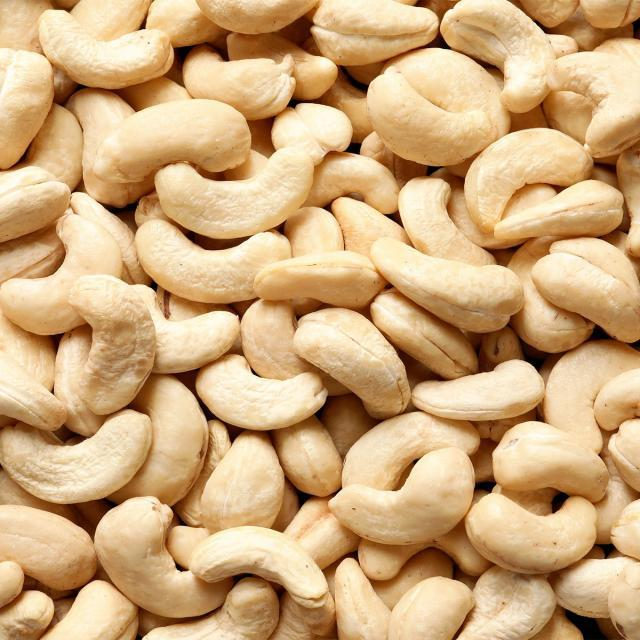Frutta secca: (7, 2, 631, 640)
